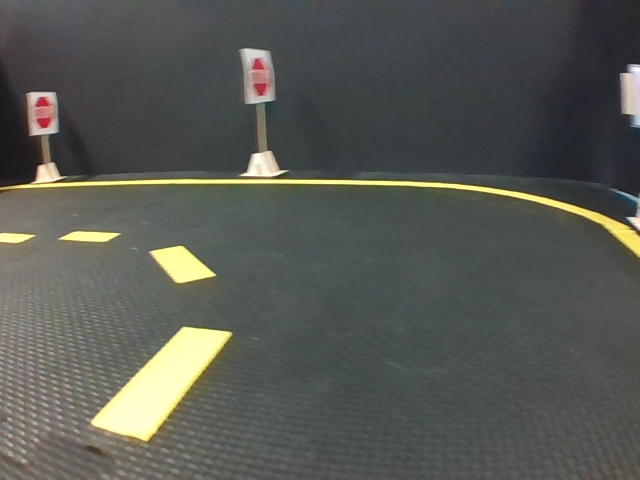stop: (243, 48, 276, 103), (27, 93, 59, 136)
